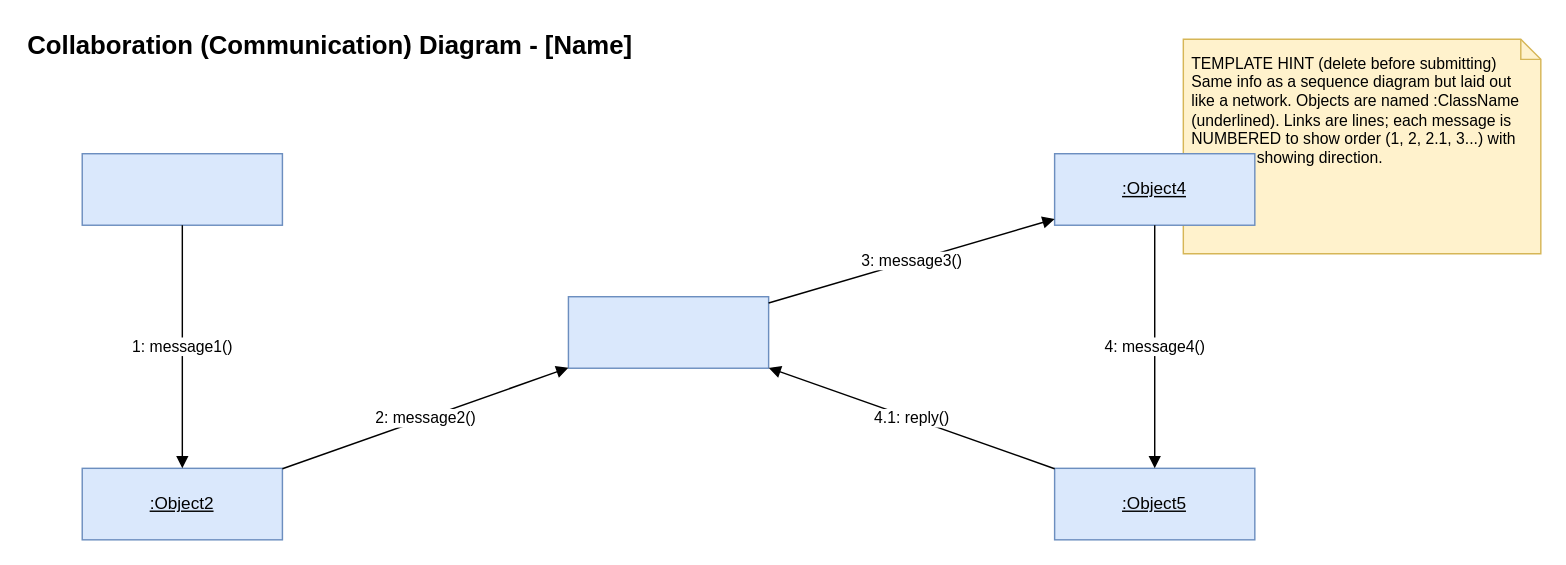
This 1566x565 diagram has some shape labels left out. The centre of each missing label's shape, as x and y in pixels:
":Object1" goes at point (181, 188).
":Object3" goes at point (668, 331).
